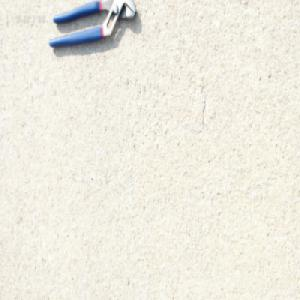Pliers: (47, 0, 137, 50)
